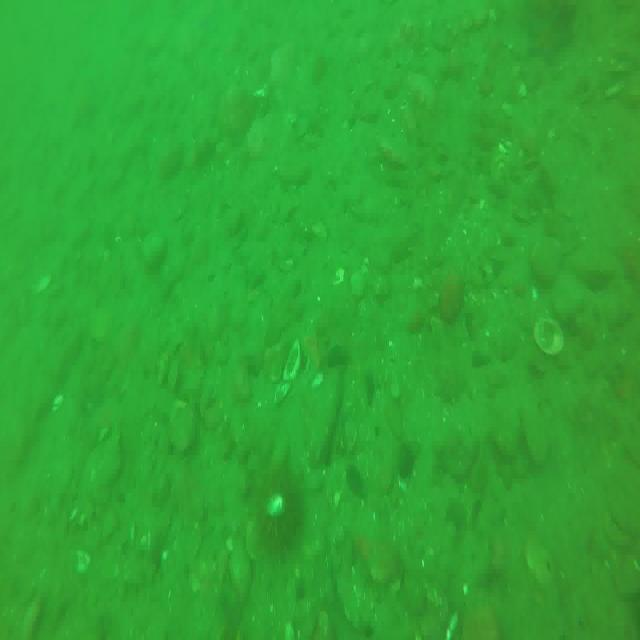echinus: (258, 462, 304, 558)
scallop: (268, 338, 302, 402), (530, 314, 564, 362), (525, 541, 553, 586), (29, 272, 53, 296), (52, 389, 62, 414)
